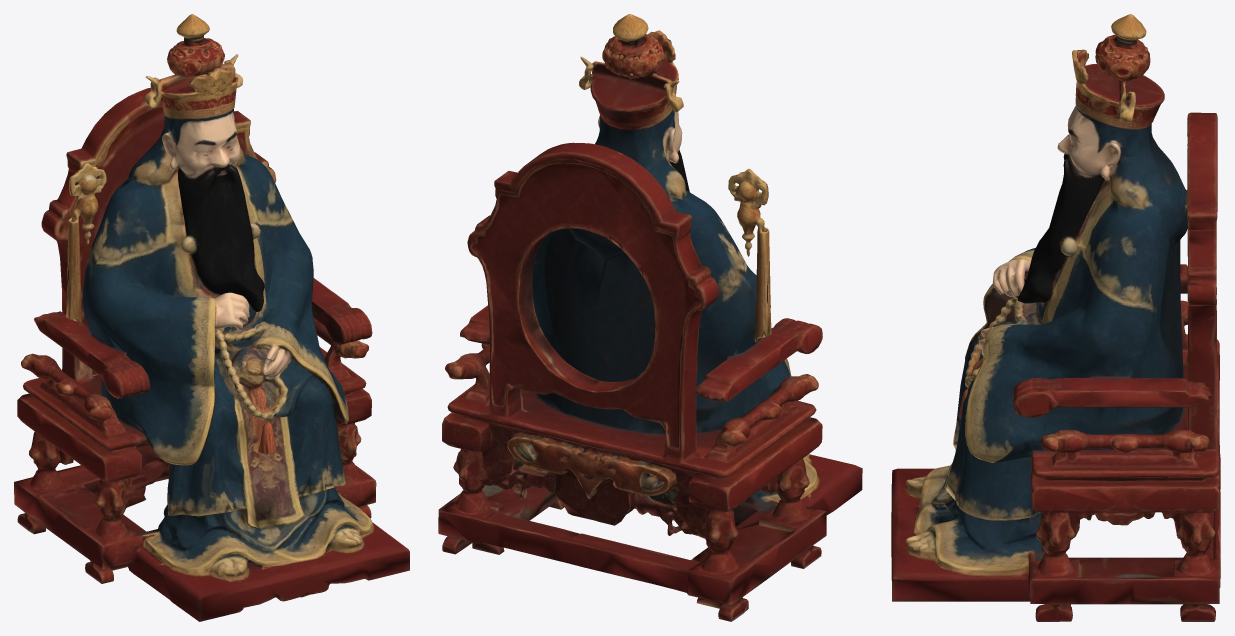
The model's file is deity_lingbao.glb.
3 renders of one model, left to right at view 1: azimuth 30°, elevation 25°; view 2: azimuth 150°, elevation 25°; view 3: azimuth 270°, elevation 25°, orthographic. The views are drawn at different scales.
Size of the model in its own units: 1.1 by 1.9 by 1.05.
1 material, 1 textured.
